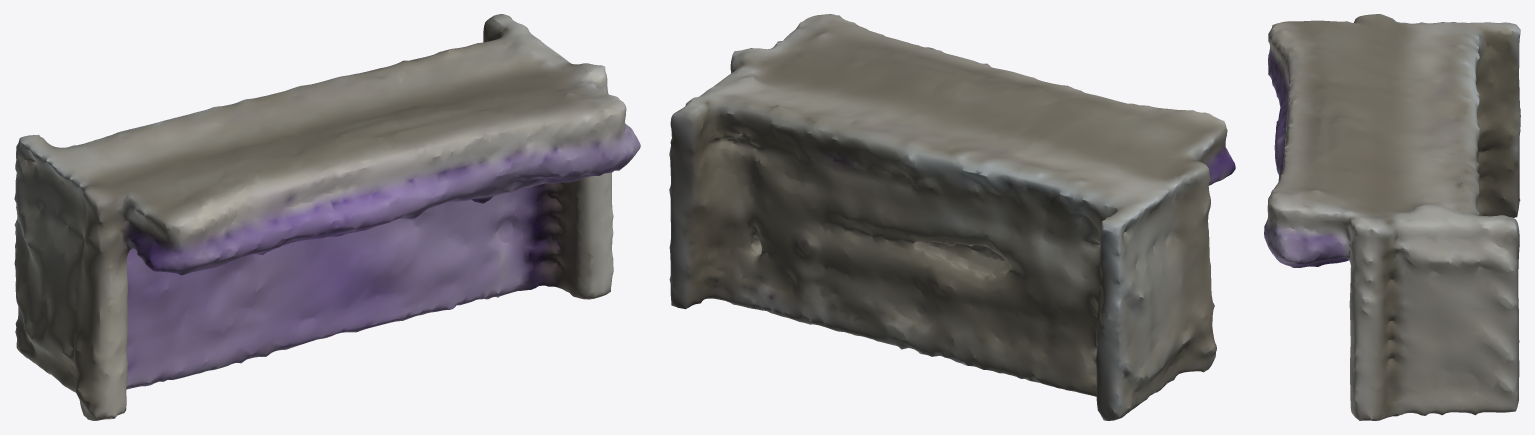
Rendered from sofa.glb.
3 renders of one model, left to right at view 1: azimuth 30°, elevation 25°; view 2: azimuth 150°, elevation 25°; view 3: azimuth 270°, elevation 25°, orthographic. The views are drawn at different scales.
Bounding box in the file's own units: 0.9966 × 0.4373 × 0.4791.
